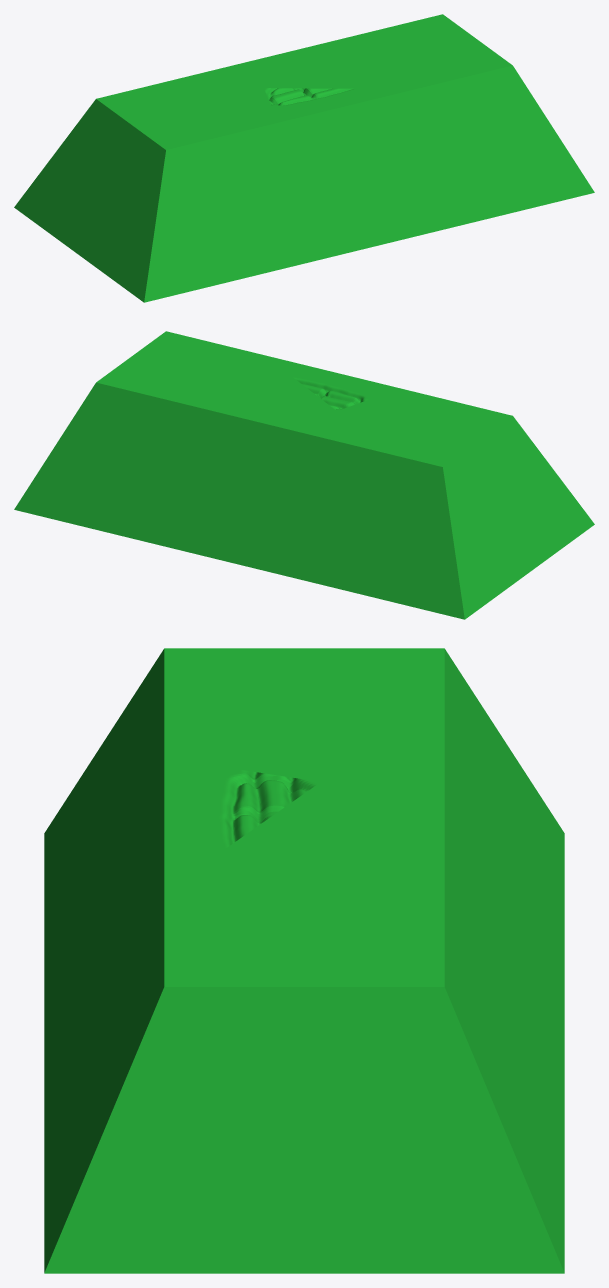
Rendered from hobobux.fbx.
3 renders of one model, top to bottom at view 1: azimuth 30°, elevation 25°; view 2: azimuth 150°, elevation 25°; view 3: azimuth 270°, elevation 25°, orthographic. The views are drawn at different scales.
Visible parts, largest first — view 1: Cube; view 2: Cube; view 3: Cube.
Boxes of the visible parts, x1,y1,x2,y2 form: Cube: [14, 14, 594, 302]; Cube: [14, 331, 594, 619]; Cube: [44, 648, 564, 1273].
Bounding box in the file's own units: 400 × 100 × 200.
